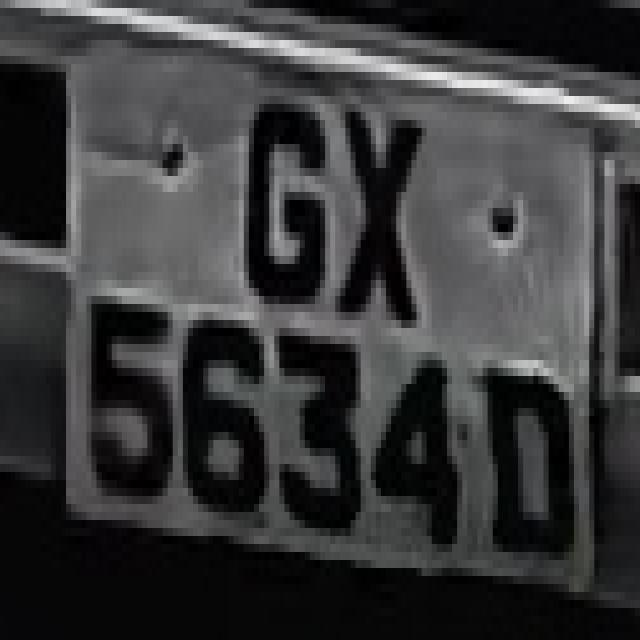3: (274, 328, 376, 544)
4: (356, 336, 472, 584)
5: (76, 256, 178, 496)
6: (178, 280, 279, 536)
D: (478, 336, 584, 608)
G: (234, 80, 335, 328)
X: (320, 80, 437, 360)
